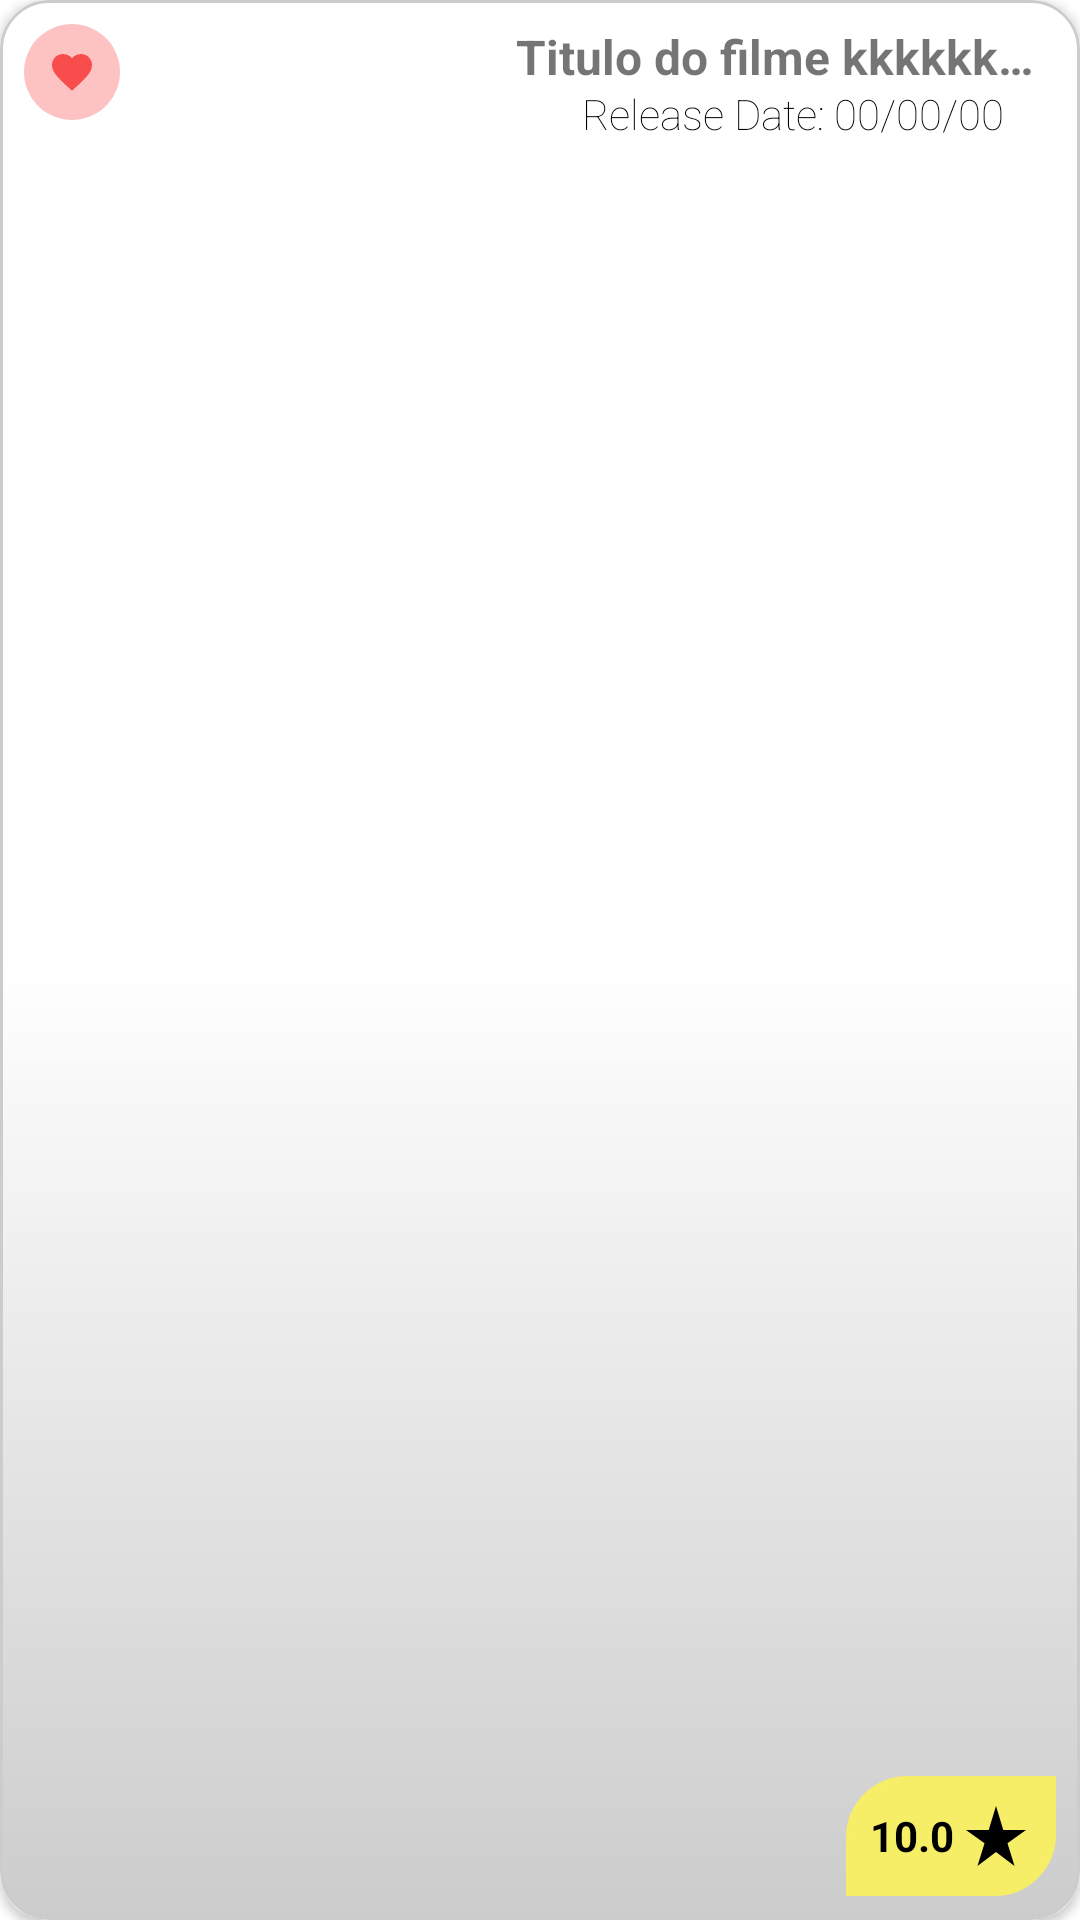

Screen size 1080px×1920px. Icon name, then its center in pixels as (x,y):
heart: (72,72)
star: (996,1836)
